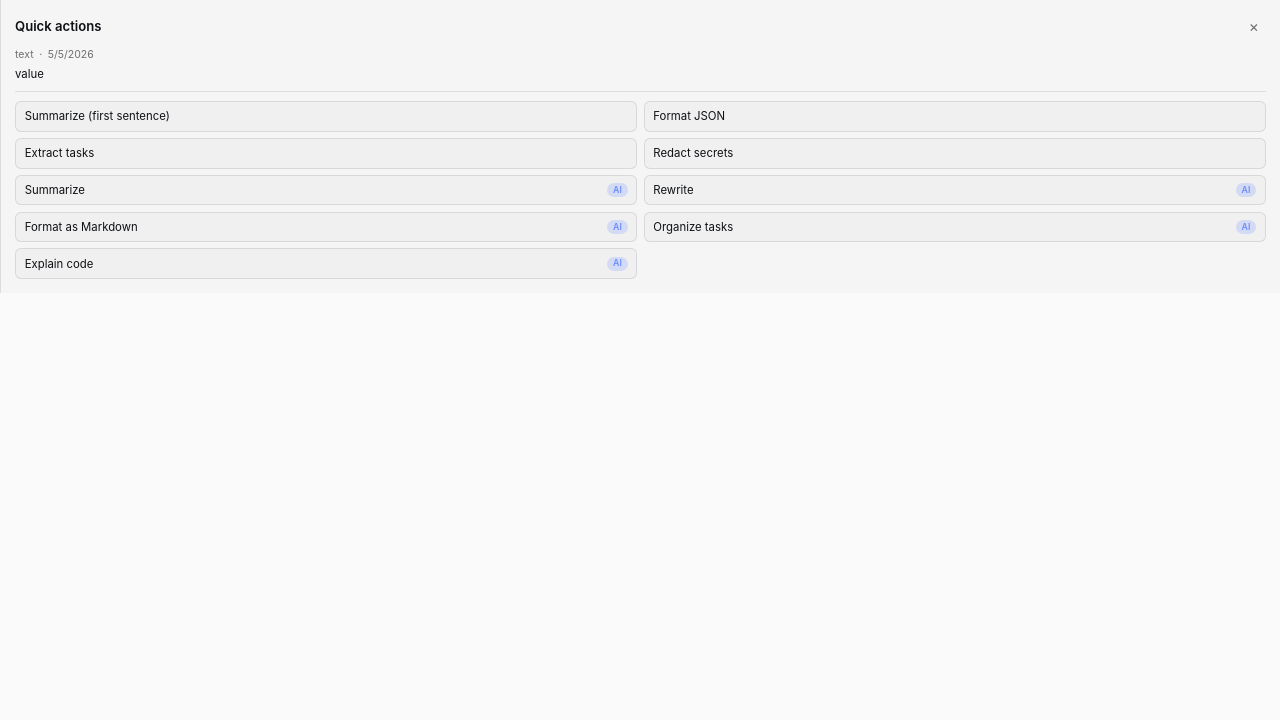
Test: ActionInspector › streams an AI summary via the request-scoped events
Click the button with test id "ai-Summarize".
click(55, 190)  # box left=15, top=175, right=637, bottom=205
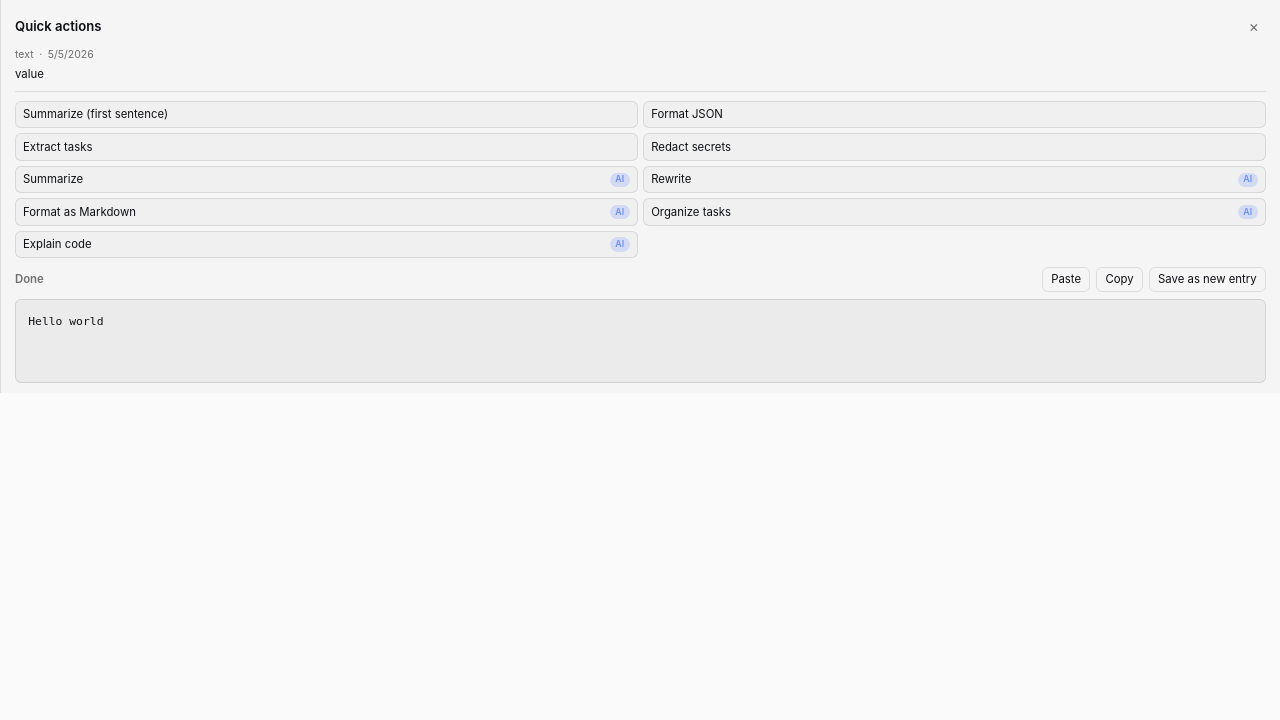
Expected: the text "Hello world" is shown, left=15, top=299, right=1266, bottom=383
